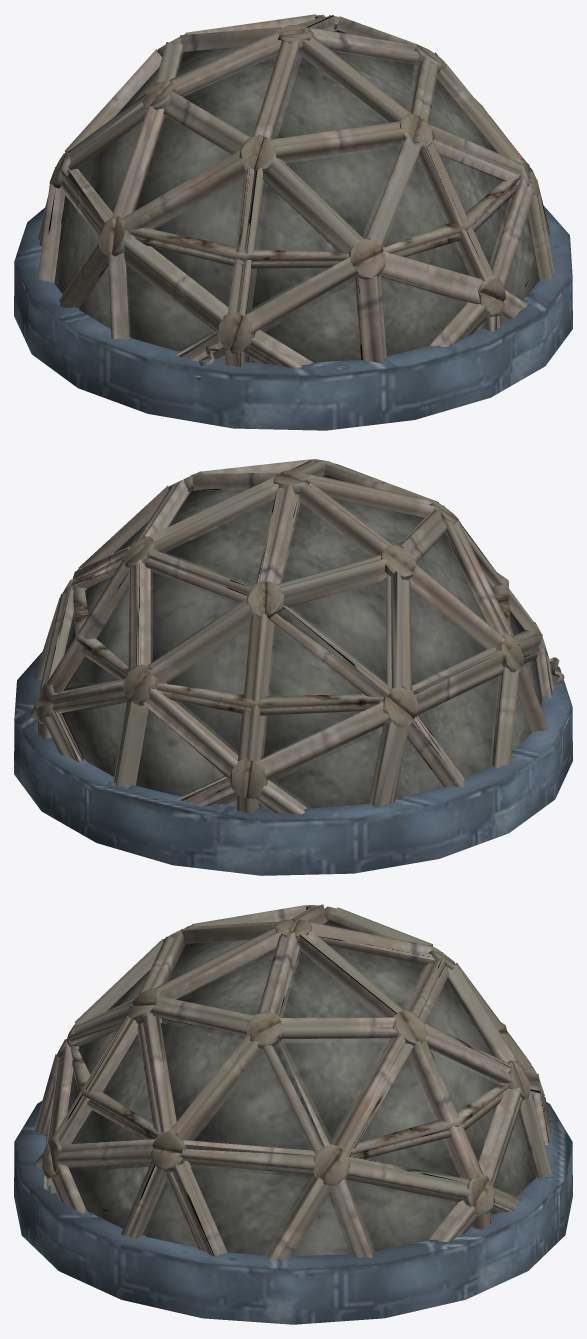
The model's file is lab.glb.
The picture shows the model from 3 angles, top to bottom: view 1: azimuth 30°, elevation 25°; view 2: azimuth 150°, elevation 25°; view 3: azimuth 270°, elevation 25°; orthographic projection.
Parts seen in each view (by area): view 1: body; view 2: body; view 3: body.
Boxes of the visible parts, box(x1,y1,x2,y2) form: body: box(14, 14, 572, 430); body: box(14, 459, 572, 875); body: box(14, 904, 572, 1324).
Bounding box in the file's own units: 2.92 × 1.63 × 2.93.
Materials: 1 (1 with a texture image).
